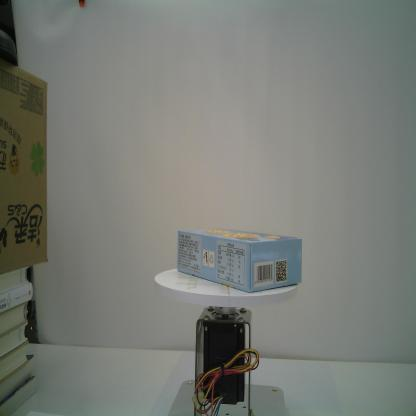Dessert: (176, 228, 303, 293)
